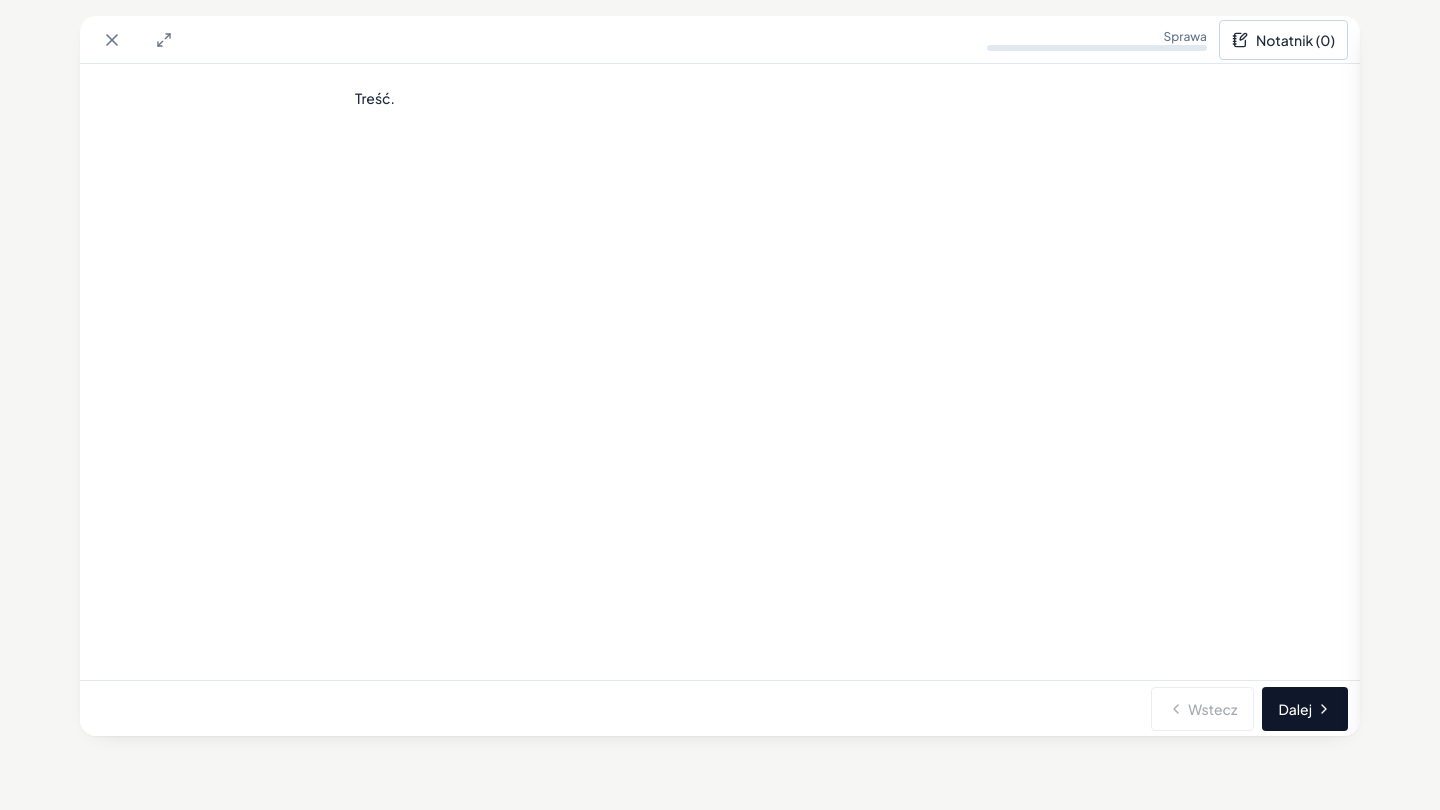
Test: CoursePlayer: powrót „Wstecz” przeglądarki (D-142) › 400 z /progress (nieaktualny postęp, „Bloki trzeba ukończyć po kolei”): komunikat i świeży postęp z serwera
The image size is (1440, 810).
Click the button "Dalej" at (1305, 708), box [1262, 686, 1348, 730]
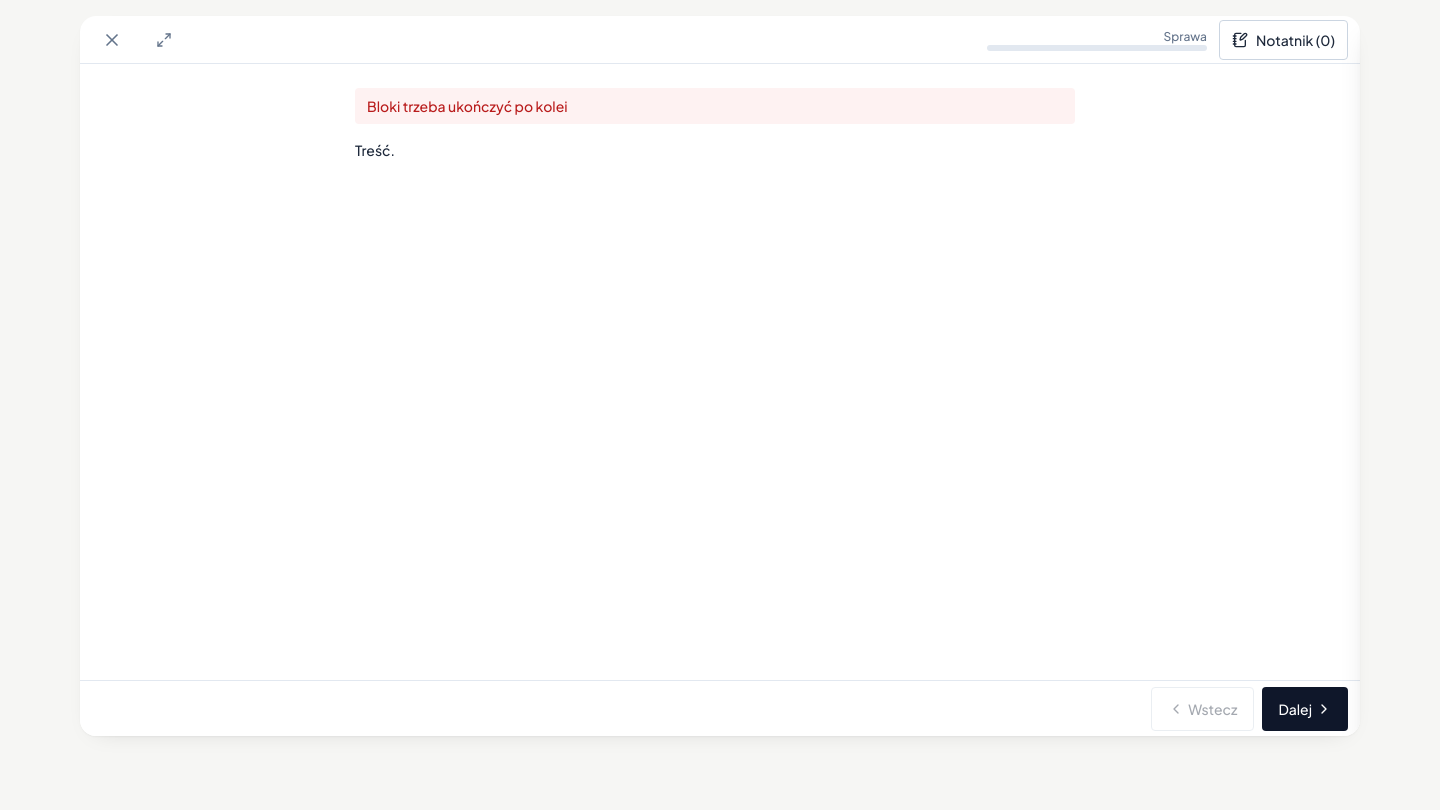
expect the text "Bloki trzeba ukończyć po kolei" is shown: met, box [355, 88, 1075, 124]
